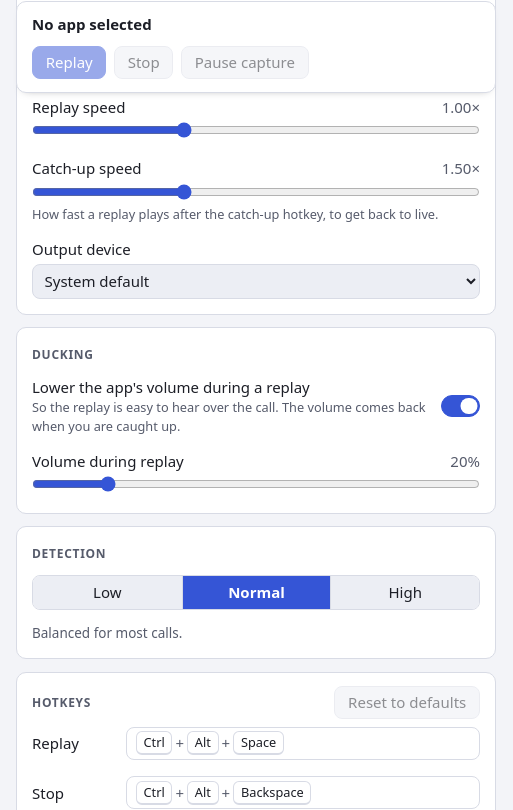
ducking section › toggle saves the whole duck object
This screenshot has width=513, height=810.
(page scrolled)
Expected: the element named "Status" is shown, [16,0,496,92]
Click the switch labelled "Lower the app's volume during a replay". click: x=460, y=406
box: [441,395,480,417]
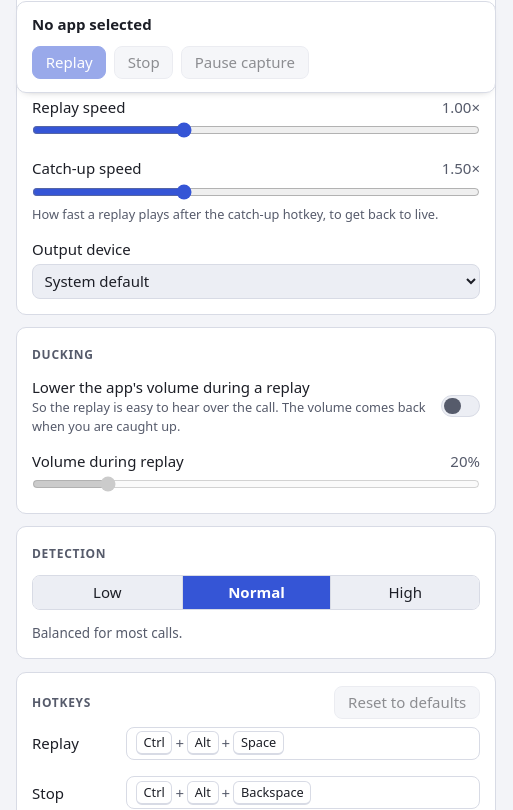
Result: the slider labelled "Volume during replay" is disabled at [32,476,480,492]
